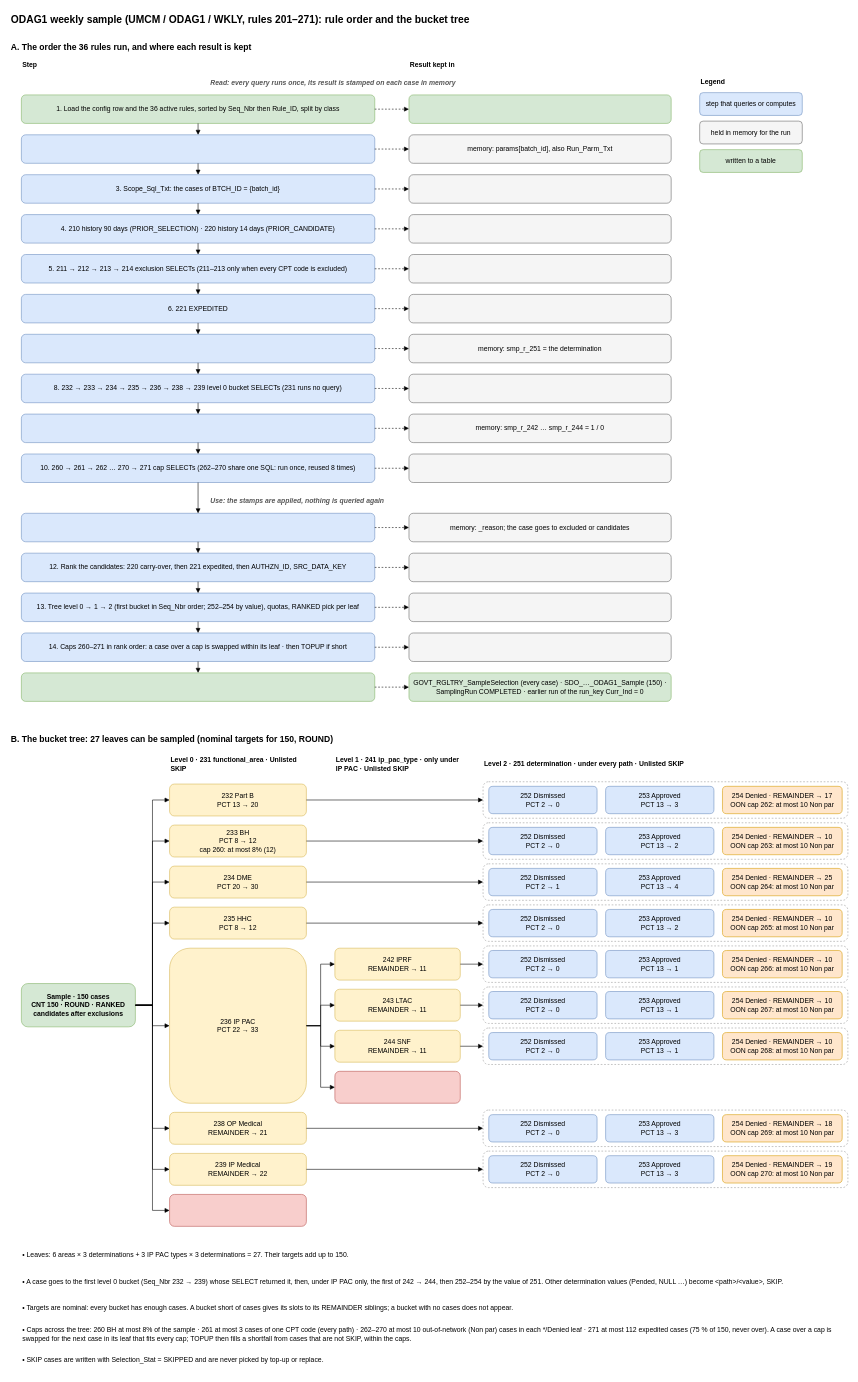
Some shapes in this 858 by 1382 pixel diagram are drawn without their labels. Each missing label, with the centre of its shape:
"11. Exclude: 210 first, then 211 → 214; the first hit is the reason" belongs at point 198,527.
"15. One transaction" belongs at point 198,686.
"2. 201 batch_id (PARAM): its SELECT returns the batch" belongs at point 198,148.
"7. 251 determination (Partially Approved → Approved, other values as they are)" belongs at point 198,348.
"9. 242 → 243 → 244 level 1 bucket SELECTs, over every case (241 runs no query)" belongs at point 198,428.
"GOVT_RGLTRY_SamplingRun (RUNNING) + GOVT_RGLTRY_SamplingRunRule (36 rows)" belongs at point 539,108.
"IP PAC/OTHER SKIP: never picked" belongs at point 397,1087.
"memory: _order" belongs at point 539,567.
"memory: _path, leaf targets, _skip" belongs at point 539,607.
"memory: history[210], history[220] from GOVT_RGLTRY_SampleSelection" belongs at point 539,228.
"memory: one entry per case, keyed AUTHZN_ID|SRC_DATA_KEY" belongs at point 539,188.
"memory: smp_r_211 … smp_r_214 = 1 / 0 per case" belongs at point 539,268.
"memory: smp_r_221 = 1 / 0" belongs at point 539,308.
"memory: smp_r_232 … smp_r_239 = 1 / 0" belongs at point 539,388.
"memory: smp_r_260, smp_r_261 = CPT code, smp_r_262 … smp_r_271" belongs at point 539,468.
"memory: the final 150" belongs at point 539,646.
"OTHER (no area) SKIP: never picked" belongs at point 237,1210.
